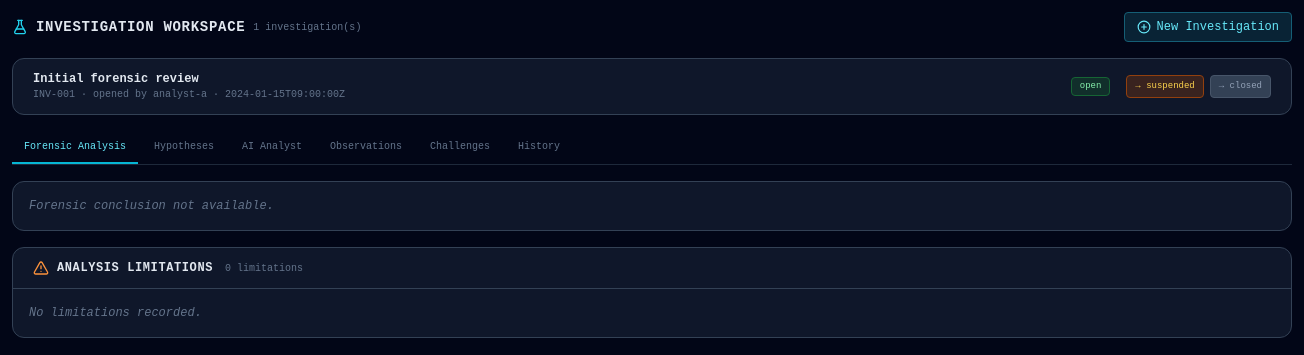
Test: InvestigationWorkspace › switches to history tab on click
Click the button with test id "tab-history" at (539, 148), box [506,131,572,164]
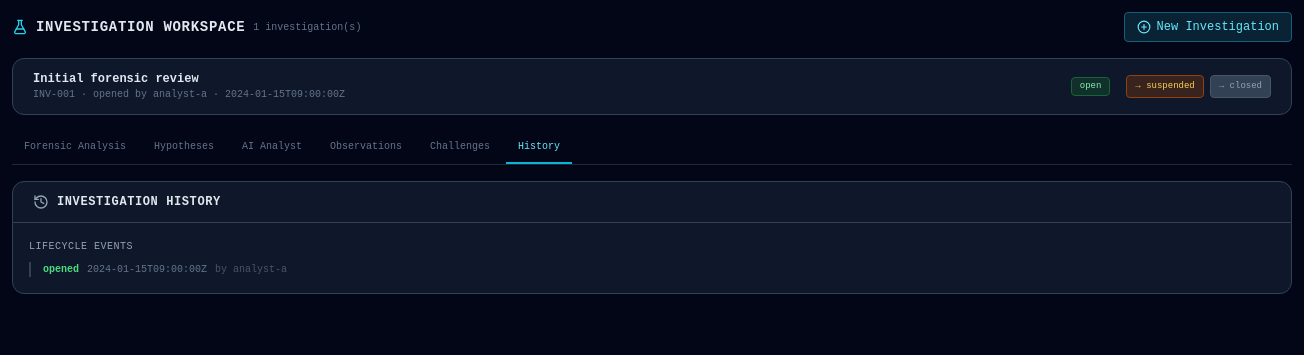
Result: the element with test id "tab-content-history" is shown at [12,181,1292,294]
